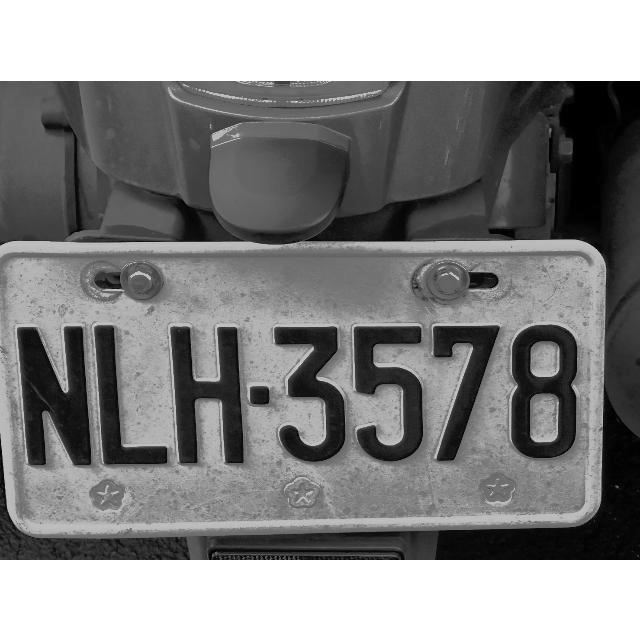-: (248, 382, 272, 411)
3: (274, 322, 350, 466)
5: (352, 323, 430, 465)
7: (430, 324, 504, 464)
8: (510, 322, 582, 461)
H: (168, 320, 248, 468)
L: (90, 322, 170, 470)
N: (15, 322, 93, 472)
